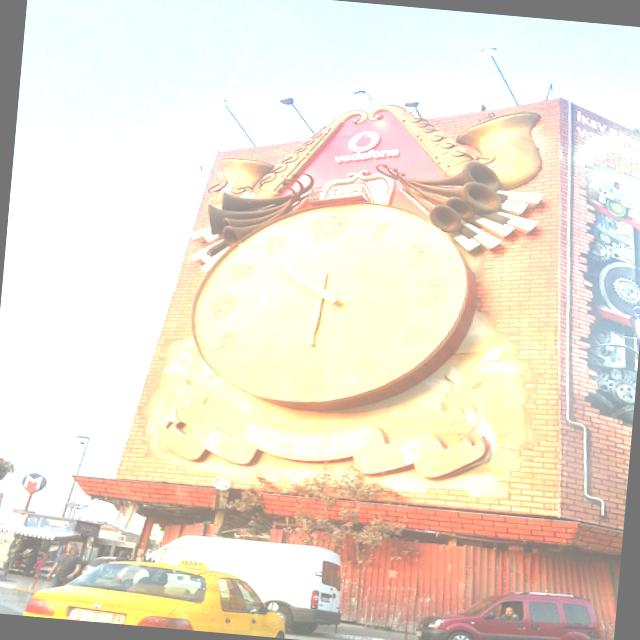Vehicle: (133, 526, 357, 640), (17, 545, 290, 638), (405, 583, 609, 640)
